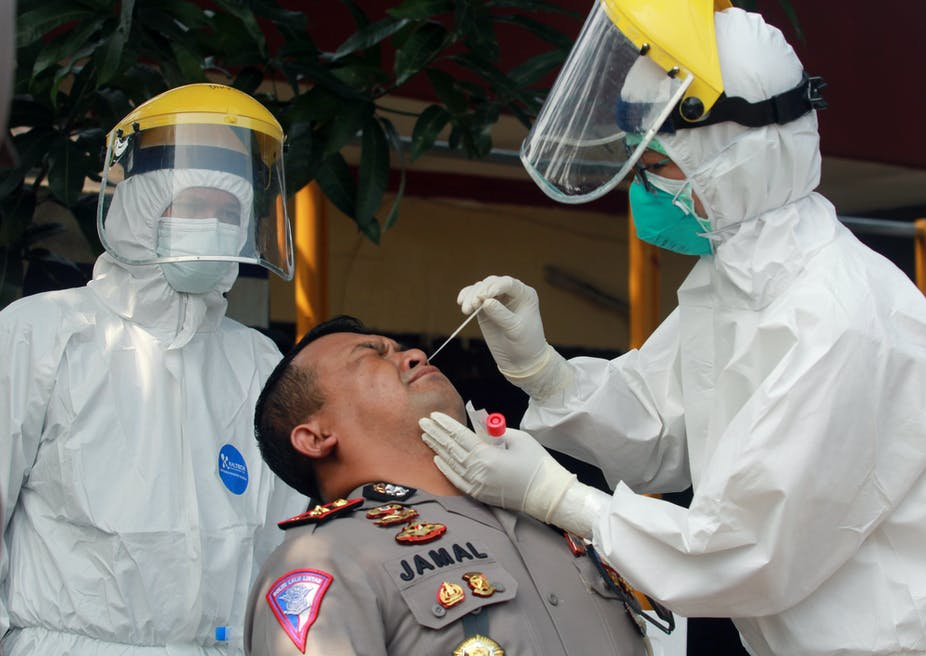Face_Shield: (90, 76, 304, 288), (514, 1, 726, 211)
Gloves: (408, 406, 593, 535), (454, 272, 575, 405)
with_mask: (629, 138, 715, 259), (154, 183, 240, 298)
without_mask: (343, 333, 461, 416)
